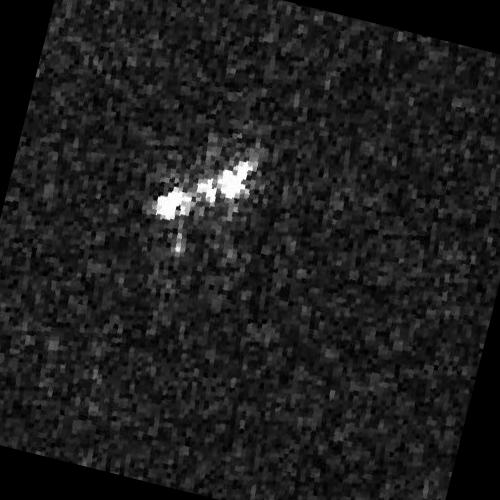ship: (154, 158, 257, 222)
